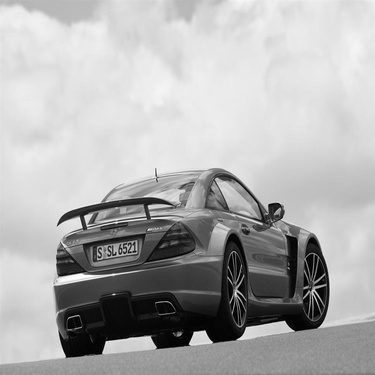car: (9, 160, 342, 335)
